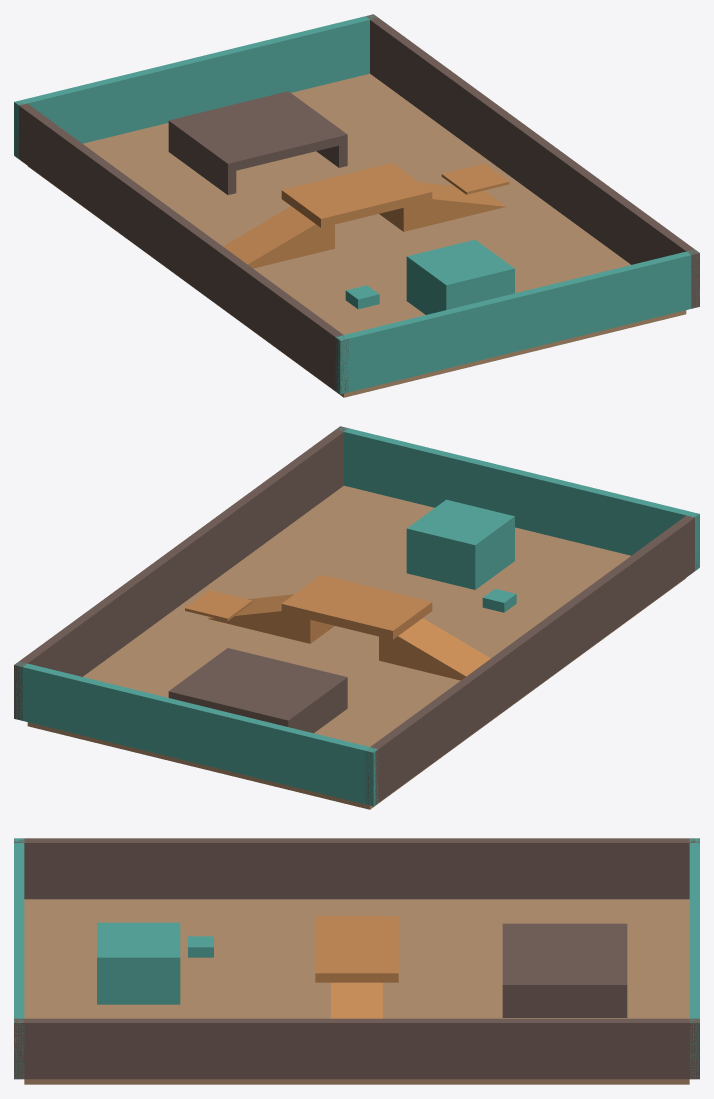
3 views of the same model, one above another, from view 1: azimuth 30°, elevation 25°; view 2: azimuth 150°, elevation 25°; view 3: azimuth 270°, elevation 25° (orthographic). The views are drawn at different scales.
Parts seen in each view (by area): view 1: Render_Floor, Render_SouthWall, Render_WestWall, Render_EastWall, Render_NorthWall, Render_TunnelRoof, Render_SouthTower, Render_Bridge, Render_WestRamp, Render_EastRamp, Render_TunnelWest, Render_LowClearanceShortcut (+1 smaller); view 2: Render_Floor, Render_NorthWall, Render_WestWall, Render_EastWall, Render_SouthWall, Render_TunnelRoof, Render_SouthTower, Render_Bridge, Render_WestRamp, Render_EastRamp, Render_LowClearanceShortcut, Render_TunnelWest (+1 smaller); view 3: Render_Floor, Render_EastWall, Render_WestWall, Render_TunnelRoof, Render_SouthTower, Render_Bridge, Render_TunnelEast, Render_SouthWall, Render_NorthWall, Render_EastRamp, Render_MantleCrate.
Part boxes in pixels (box(x1,y1,x2,y2)): Render_Floor: box(28, 73, 686, 397); Render_SouthWall: box(335, 250, 699, 394); Render_WestWall: box(14, 102, 348, 393); Render_EastWall: box(366, 14, 699, 308); Render_NorthWall: box(14, 15, 376, 158); Render_TunnelRoof: box(168, 91, 347, 172); Render_SouthTower: box(406, 239, 514, 314); Render_Bridge: box(281, 163, 432, 227); Render_WestRamp: box(223, 206, 334, 268); Render_EastRamp: box(379, 182, 505, 231); Render_TunnelWest: box(168, 128, 236, 194); Render_LowClearanceShortcut: box(441, 163, 509, 194); Render_Floor: box(27, 485, 685, 809); Render_NorthWall: box(14, 662, 378, 806); Render_WestWall: box(365, 514, 699, 806); Render_EastWall: box(14, 426, 348, 720); Render_SouthWall: box(336, 426, 699, 570); Render_TunnelRoof: box(168, 648, 347, 727); Render_SouthTower: box(406, 499, 514, 589); Render_Bridge: box(281, 575, 432, 639); Render_WestRamp: box(379, 618, 490, 680); Render_EastRamp: box(208, 594, 334, 643); Render_LowClearanceShortcut: box(185, 590, 252, 621); Render_TunnelWest: box(279, 686, 347, 733); Render_Floor: box(24, 899, 689, 1084); Render_EastWall: box(14, 1018, 699, 1079); Render_WestWall: box(14, 838, 699, 899); Render_TunnelRoof: box(502, 923, 627, 994); Render_SouthTower: box(97, 922, 180, 1004); Render_Bridge: box(315, 916, 398, 982); Render_TunnelEast: box(502, 989, 627, 1017); Render_SouthWall: box(14, 838, 24, 1079); Render_NorthWall: box(689, 838, 699, 1079); Render_EastRamp: box(331, 982, 382, 1018); Render_MantleCrate: box(188, 936, 213, 957).
Size of the model in its own units: 42 by 7 by 66.
